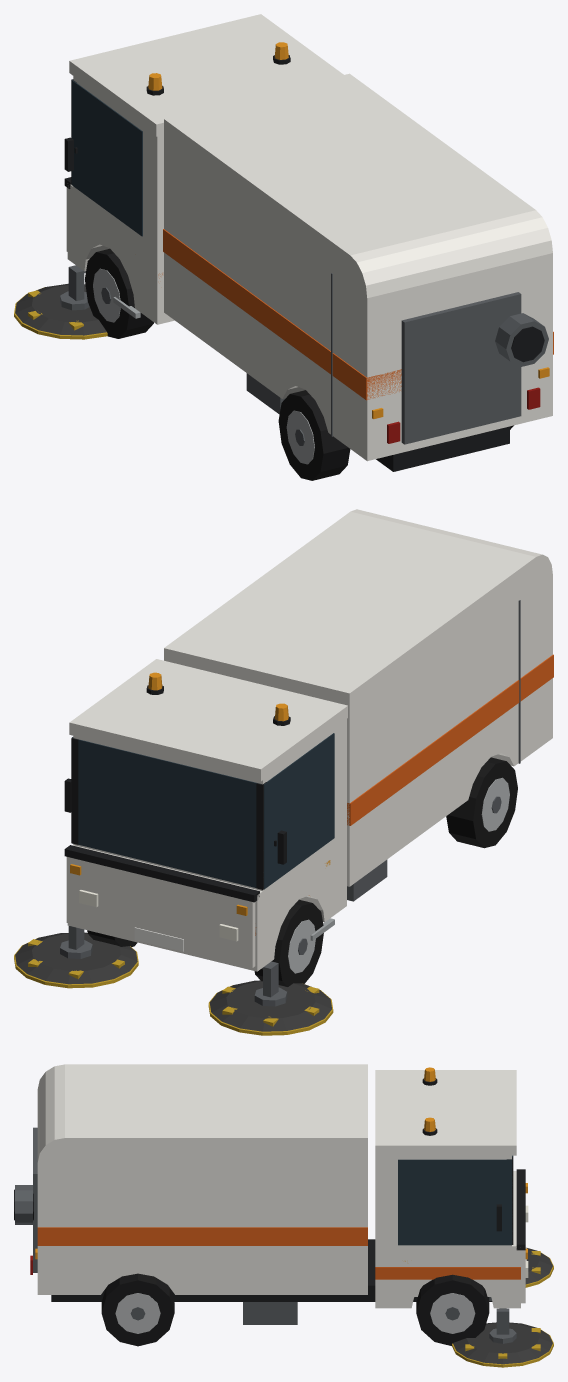
Rendered from sweeper.glb.
The picture shows the model from 3 angles, top to bottom: view 1: azimuth 30°, elevation 25°; view 2: azimuth 150°, elevation 25°; view 3: azimuth 270°, elevation 25°; orthographic projection. The views are drawn at different scales.
Parts seen in each view (by area): view 1: Sweeper, BroomL; view 2: Sweeper, BroomL, BroomR; view 3: Sweeper, BroomR, BroomL.
Part boxes in pixels (bbox=[...]): Sweeper: bbox=[64, 14, 553, 480]; BroomL: bbox=[14, 283, 107, 339]; Sweeper: bbox=[64, 509, 553, 997]; BroomL: bbox=[208, 980, 333, 1035]; BroomR: bbox=[14, 932, 138, 988]; Sweeper: bbox=[14, 1064, 527, 1346]; BroomR: bbox=[452, 1322, 553, 1367]; BroomL: bbox=[525, 1248, 553, 1287].
Bounding box in the file's own units: 3.12 × 2.58 × 5.92.
